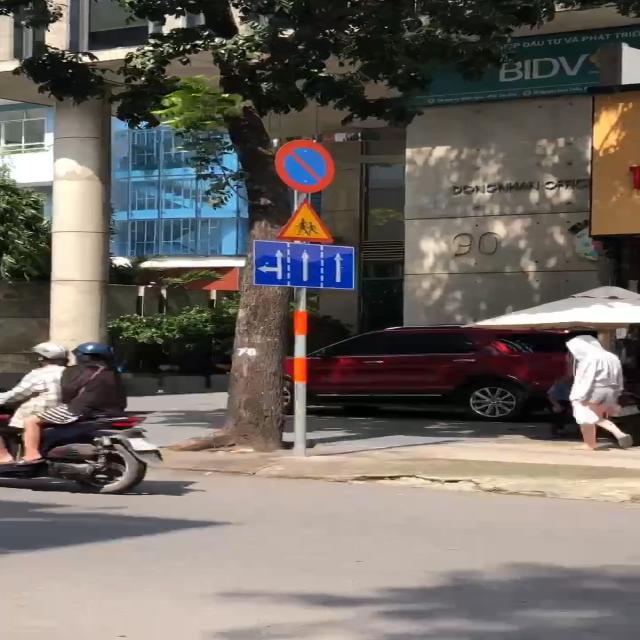Bien bao cam do xe: (270, 137, 344, 197)
Bien bao tre em: (268, 197, 341, 244)
